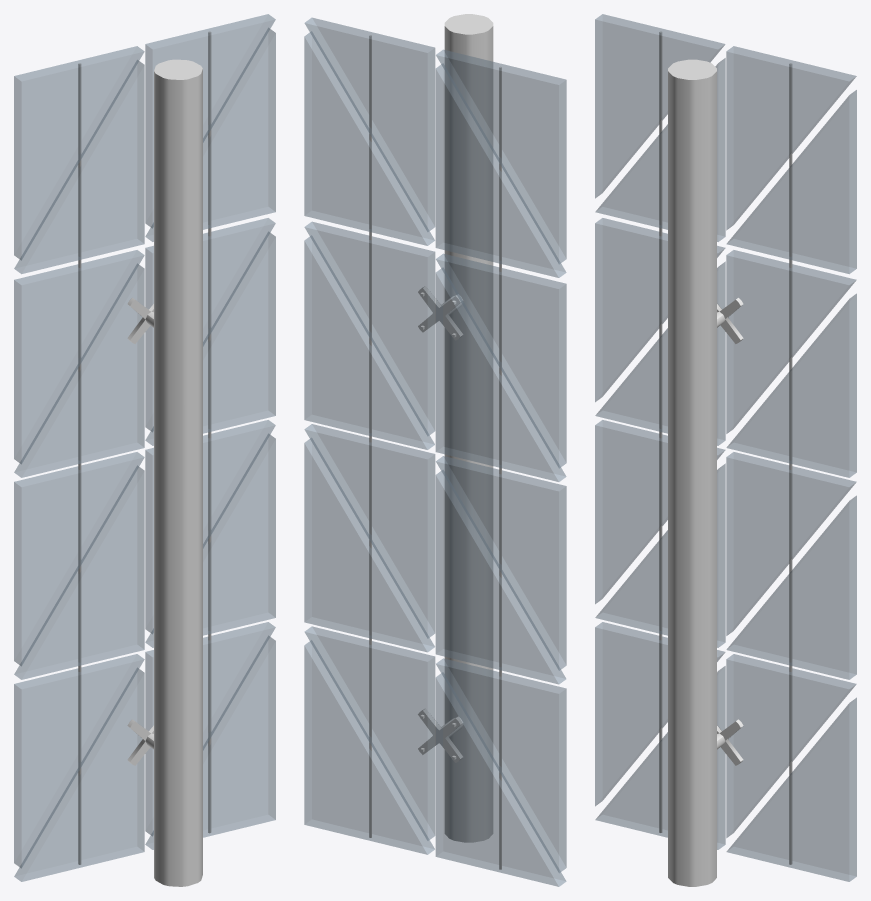
Rendered from Janelas.fbx.
3 renders of one model, left to right at view 1: azimuth 30°, elevation 25°; view 2: azimuth 150°, elevation 25°; view 3: azimuth 330°, elevation 25°, orthographic.
Visible parts, largest first — view 1: pCylinder3, pCube6 (×2), pCube11 (×2), pCube9 (×2), pCube2 (×2), pCube10 (×2), pCube7 (×2), pCube5 (×2), pCube8 (×2), pCylinder1, pCylinder2, pCube12 (×2); view 2: pCylinder3, pCube10 (×2), pCube7 (×2), pCube5 (×2), pCube8 (×2), pCube9 (×2), pCube2 (×2), pCube6 (×2), pCube11 (×2), pCylinder1, pCylinder2, pCube12 (×2); view 3: pCylinder3, pCube10 (×2), pCube7 (×2), pCube8 (×2), pCube5 (×2), pCube6 (×2), pCube11 (×2), pCube9 (×2), pCube2 (×2), pCylinder1, pCylinder2, pCube12 (×2).
Boxes of the visible parts, x1,y1,x2,y2 form: pCylinder3: [154, 59, 202, 886]; pCube6 (×2): [14, 434, 275, 679]; pCube11 (×2): [14, 28, 275, 273]; pCube9 (×2): [14, 232, 275, 477]; pCube2 (×2): [14, 636, 275, 881]; pCube10 (×2): [14, 14, 275, 260]; pCube7 (×2): [14, 420, 275, 666]; pCube5 (×2): [14, 622, 275, 868]; pCube8 (×2): [14, 218, 275, 464]; pCylinder1: [78, 63, 81, 864]; pCylinder2: [208, 31, 211, 833]; pCube12 (×2): [127, 297, 153, 765]; pCylinder3: [444, 14, 493, 842]; pCube10 (×2): [304, 17, 566, 264]; pCube7 (×2): [304, 424, 566, 670]; pCube5 (×2): [304, 626, 566, 873]; pCube8 (×2): [304, 221, 566, 468]; pCube9 (×2): [304, 235, 566, 481]; pCube2 (×2): [304, 640, 566, 886]; pCube6 (×2): [304, 438, 565, 684]; pCube11 (×2): [304, 31, 566, 277]; pCylinder1: [499, 66, 501, 869]; pCylinder2: [369, 35, 371, 837]; pCube12 (×2): [418, 286, 463, 762]; pCylinder3: [668, 59, 716, 886]; pCube10 (×2): [595, 14, 856, 230]; pCube7 (×2): [595, 420, 856, 635]; pCube8 (×2): [595, 218, 856, 433]; pCube5 (×2): [595, 622, 856, 837]; pCube6 (×2): [595, 463, 856, 679]; pCube11 (×2): [595, 58, 856, 273]; pCube9 (×2): [595, 261, 856, 477]; pCube2 (×2): [595, 666, 856, 881]; pCylinder1: [659, 31, 662, 832]; pCylinder2: [789, 63, 792, 864]; pCube12 (×2): [717, 297, 743, 765].
Size of the model in its own units: 199 by 604 by 67.
